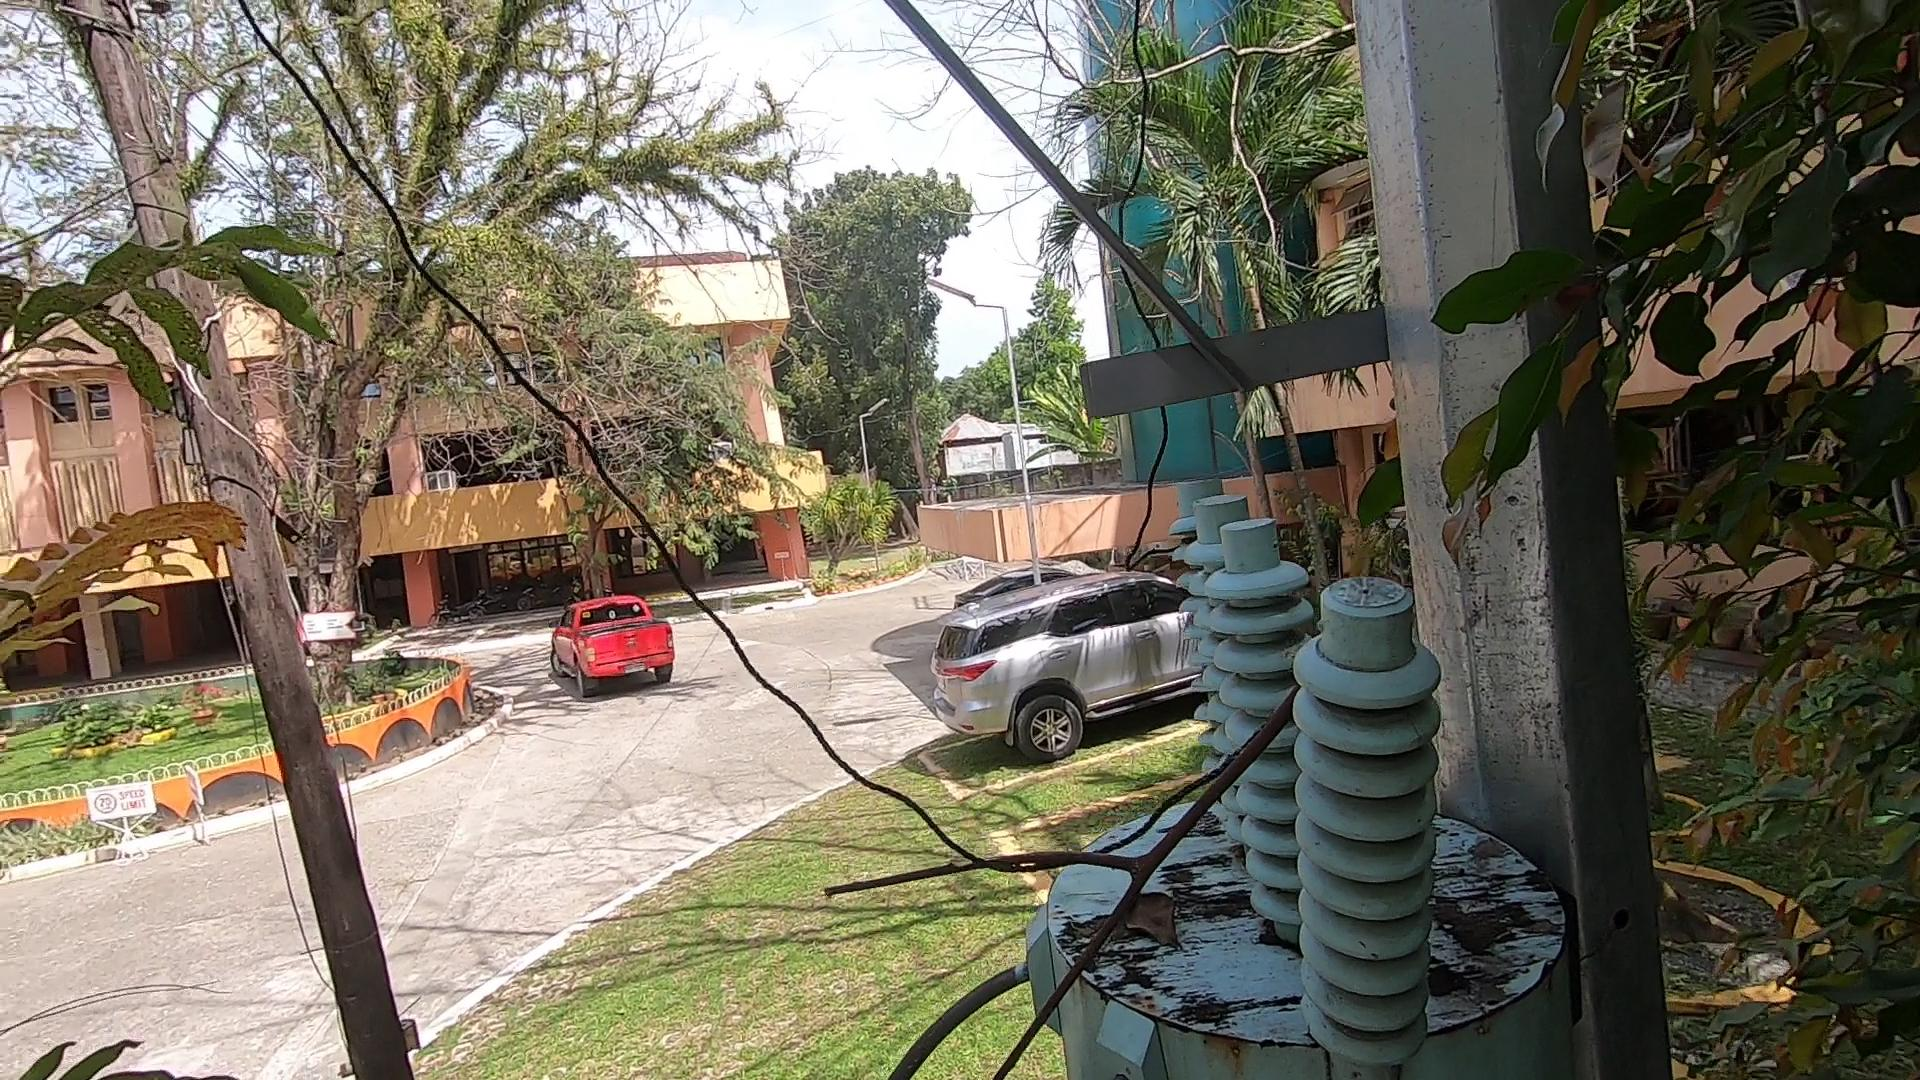leaf: (1116, 878, 1195, 942)
tree branch: (799, 632, 1298, 1080)
